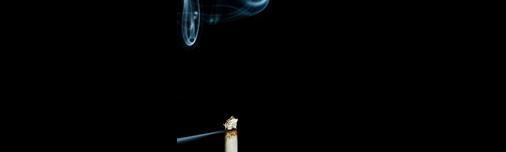Cigarette: (223, 114, 240, 152)
Smoke: (179, 0, 200, 47)
